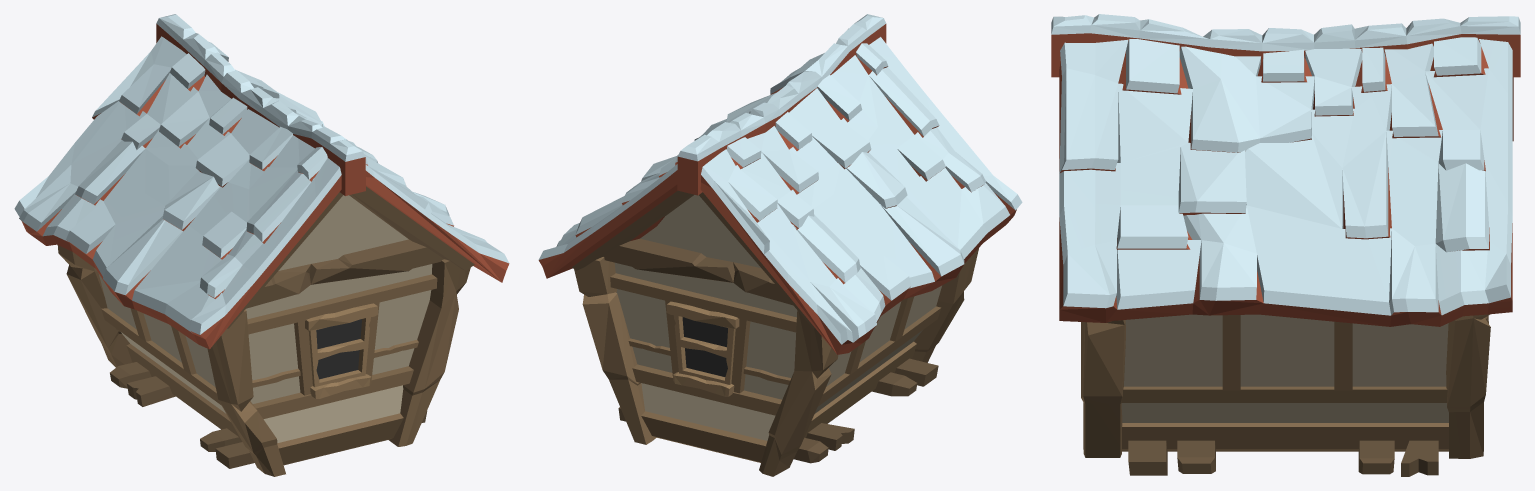
The model's file is SM_Bld_House_TopRoomSmall_06_Snow.gltf.
The picture shows the model from 3 angles, left to right: view 1: azimuth 30°, elevation 25°; view 2: azimuth 150°, elevation 25°; view 3: azimuth 270°, elevation 25°; orthographic projection. The views are drawn at different scales.
Visible parts, largest first — view 1: SM_Bld_House_TopRoomSmall_06_Snow; view 2: SM_Bld_House_TopRoomSmall_06_Snow; view 3: SM_Bld_House_TopRoomSmall_06_Snow.
Boxes of the visible parts, x1,y1,x2,y2 form: SM_Bld_House_TopRoomSmall_06_Snow: (14, 14, 509, 476); SM_Bld_House_TopRoomSmall_06_Snow: (538, 14, 1022, 476); SM_Bld_House_TopRoomSmall_06_Snow: (1051, 14, 1520, 476).
Bounding box in the file's own units: 4.68 × 4.37 × 4.67.
1 material, 1 textured.
